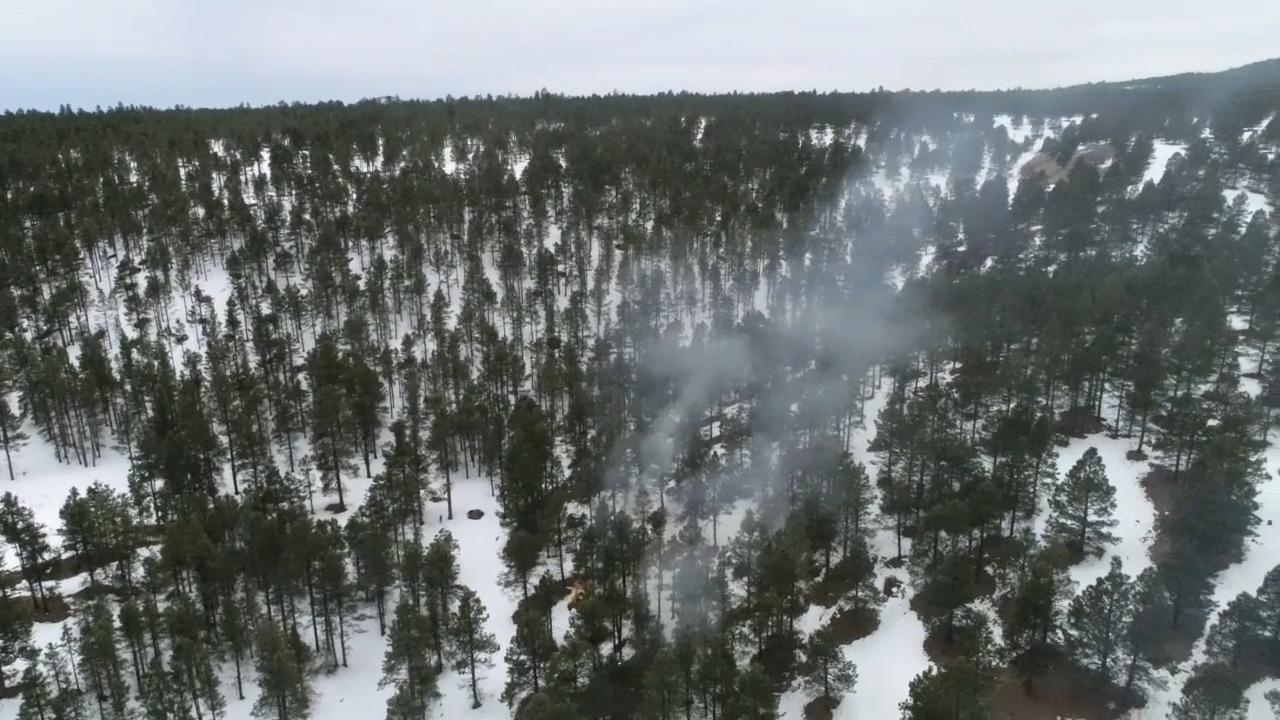smoke: (584, 103, 1044, 619)
